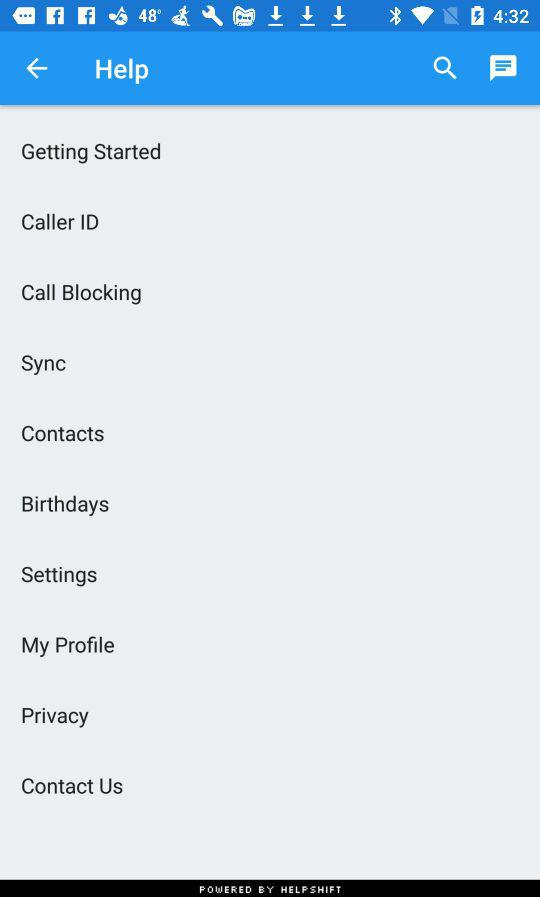Icon: (489, 55, 518, 84), (433, 56, 458, 81), (26, 58, 49, 81)
Text: (22, 143, 162, 165), (22, 284, 142, 306), (23, 636, 116, 658), (22, 495, 110, 517), (22, 777, 124, 795), (21, 566, 98, 587), (22, 425, 106, 443), (96, 58, 149, 86), (23, 707, 90, 729), (22, 214, 100, 232), (199, 885, 341, 894), (21, 355, 67, 377)
Toolbar: (1, 32, 540, 106)
UpperTaskBar: (1, 1, 540, 33)
